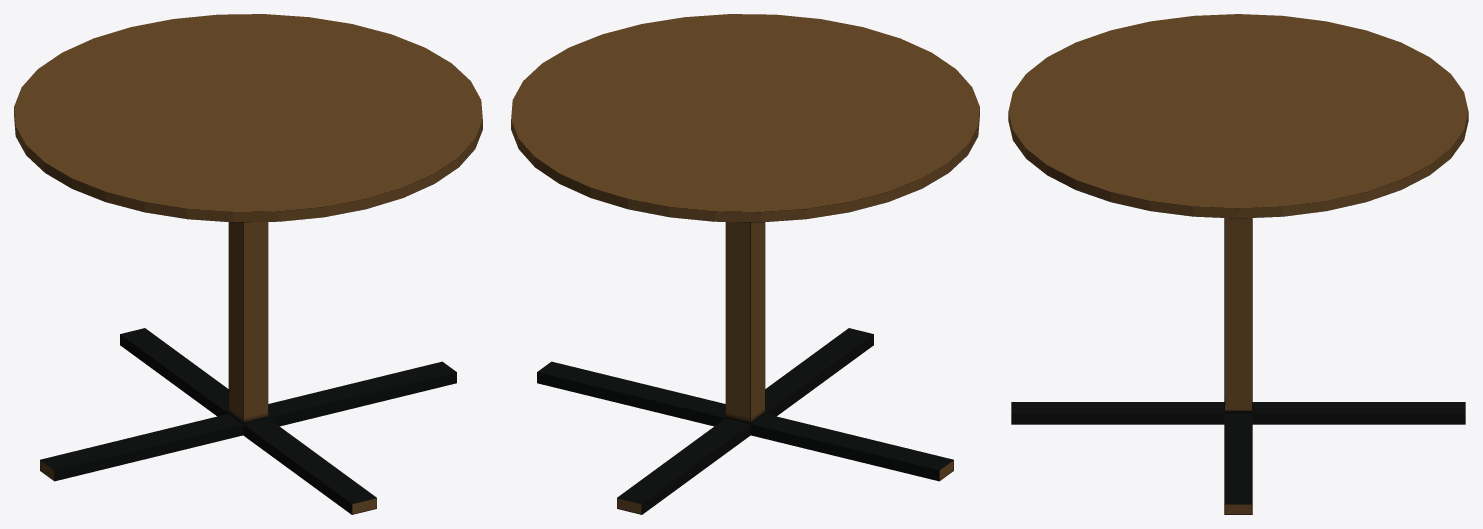
The model's file is Table_V1.fbx.
The picture shows the model from 3 angles, left to right: view 1: azimuth 30°, elevation 25°; view 2: azimuth 150°, elevation 25°; view 3: azimuth 270°, elevation 25°; orthographic projection. The views are drawn at different scales.
Parts seen in each view (by area): view 1: Cylinder, Cube; view 2: Cylinder, Cube; view 3: Cylinder, Cube.
Part boxes in pixels (x1,y1,x2,y2): Cylinder: (14, 14, 482, 222); Cube: (40, 222, 456, 514); Cylinder: (511, 14, 979, 222); Cube: (537, 222, 953, 514); Cylinder: (1008, 14, 1468, 218); Cube: (1011, 218, 1465, 514).
Size of the model in its own units: 1379 by 1017 by 1379.
2 materials, 2 textured.
